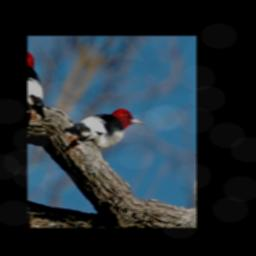Woodpecker: (65, 89, 148, 170)
